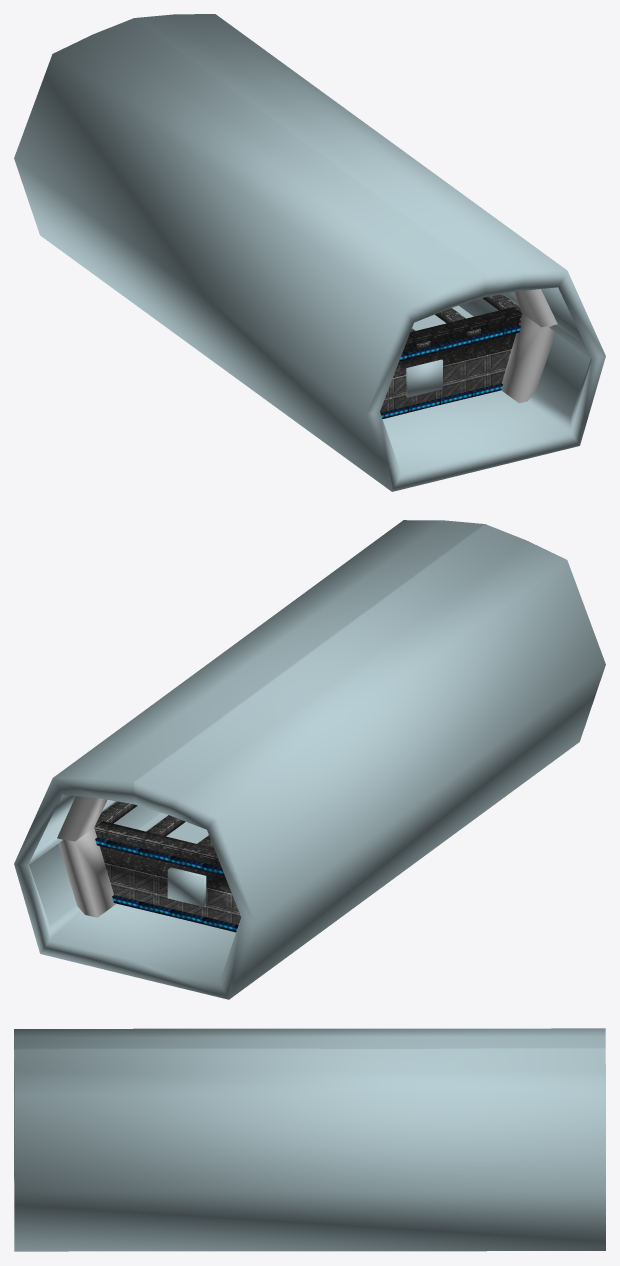
The model's file is downNarrowCorridor.fbx.
The picture shows the model from 3 angles, top to bottom: view 1: azimuth 30°, elevation 25°; view 2: azimuth 150°, elevation 25°; view 3: azimuth 270°, elevation 25°; orthographic projection. The views are drawn at different scales.
Visible parts, largest first — view 1: Circle, Circle_011, Cube_006, Cube_004; view 2: Circle, Circle_006, Cube_007, Cube_005, Circle_013; view 3: Circle.
Boxes of the visible parts, x1,y1,x2,y2 form: Circle: [14, 14, 605, 491]; Circle_011: [406, 359, 442, 397]; Cube_006: [399, 324, 521, 361]; Cube_004: [380, 383, 502, 418]; Circle: [14, 520, 605, 999]; Circle_006: [167, 867, 206, 906]; Cube_007: [95, 837, 224, 875]; Cube_005: [112, 895, 238, 931]; Circle_013: [138, 813, 208, 843]; Circle: [14, 1028, 605, 1251].
Bounding box in the file's own units: 119 × 94.45 × 301.
